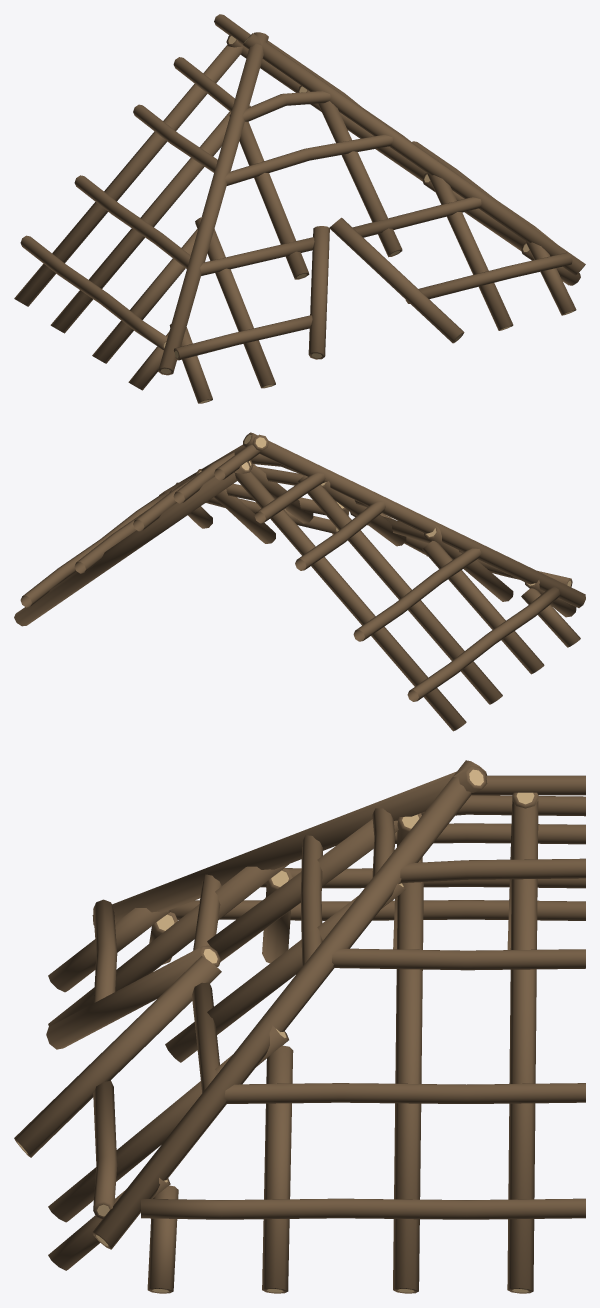
The model's file is rpgpp_ag_roof_support_01_9x4x3_roof_01_end_03.fbx.
The picture shows the model from 3 angles, top to bottom: view 1: azimuth 30°, elevation 25°; view 2: azimuth 150°, elevation 25°; view 3: azimuth 270°, elevation 25°; orthographic projection. The views are drawn at different scales.
Visible parts, largest first — view 1: rpgpp_ag_roof_support_01_9x4x3_roof_01_end_03; view 2: rpgpp_ag_roof_support_01_9x4x3_roof_01_end_03; view 3: rpgpp_ag_roof_support_01_9x4x3_roof_01_end_03.
Boxes of the visible parts, x1,y1,x2,y2 form: rpgpp_ag_roof_support_01_9x4x3_roof_01_end_03: (14,14,585,403); rpgpp_ag_roof_support_01_9x4x3_roof_01_end_03: (14,432,585,731); rpgpp_ag_roof_support_01_9x4x3_roof_01_end_03: (14,760,585,1293).
Size of the model in its own units: 10 by 4.94 by 6.99.
